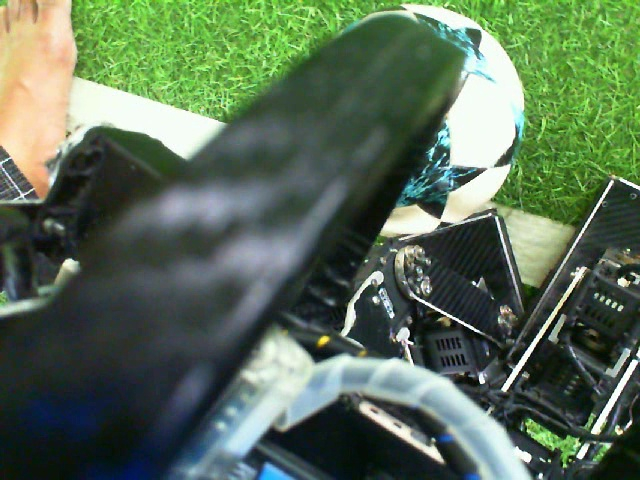ball: (375, 2, 525, 238)
